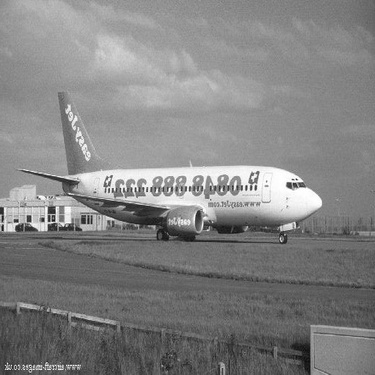airplane: (5, 84, 332, 249)
